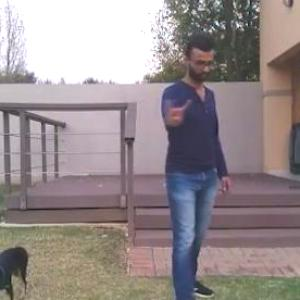takeoff-hand: (159, 87, 191, 128)
